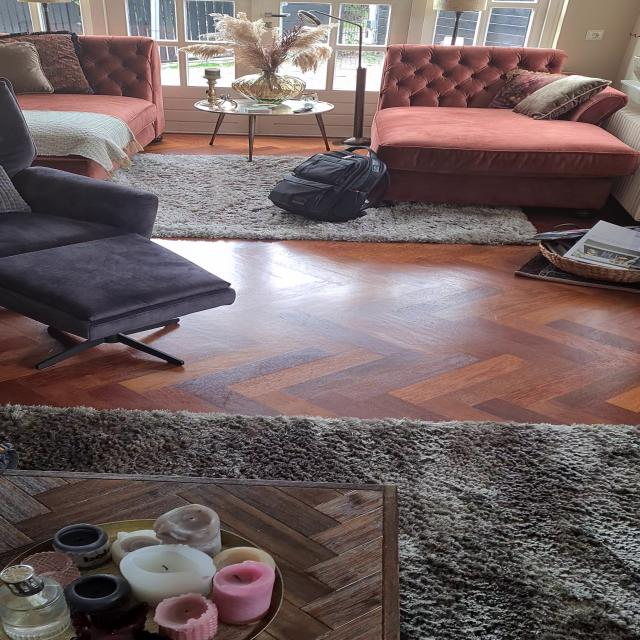backpack: (262, 145, 396, 224)
